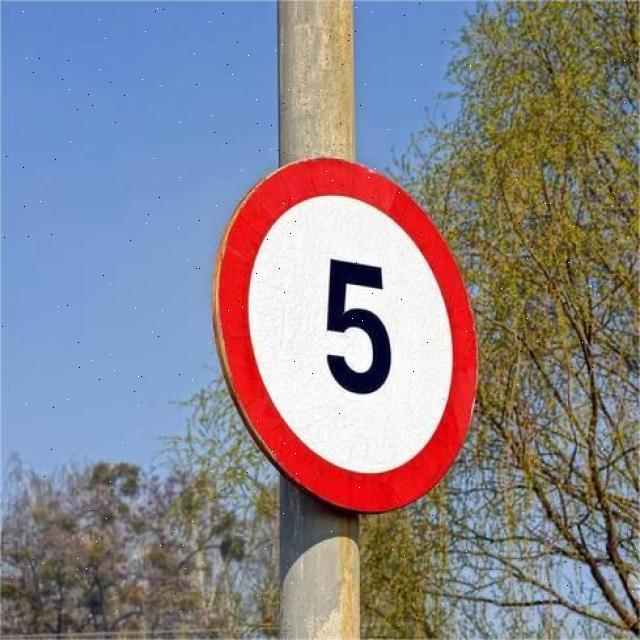speed limit 10: (215, 157, 478, 518)
